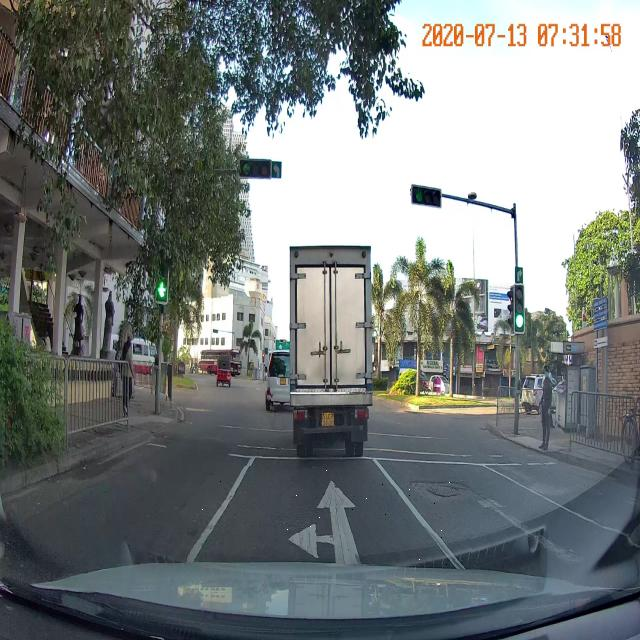forward_lft: (188, 467, 471, 565), (195, 494, 450, 533)
